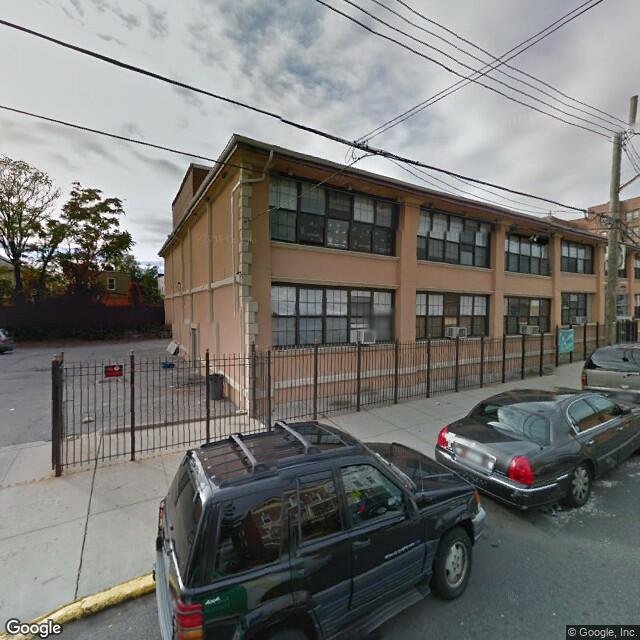litter: (92, 377, 127, 384), (154, 360, 175, 368), (233, 405, 248, 414), (80, 415, 97, 421), (9, 405, 15, 414), (436, 398, 439, 404)
